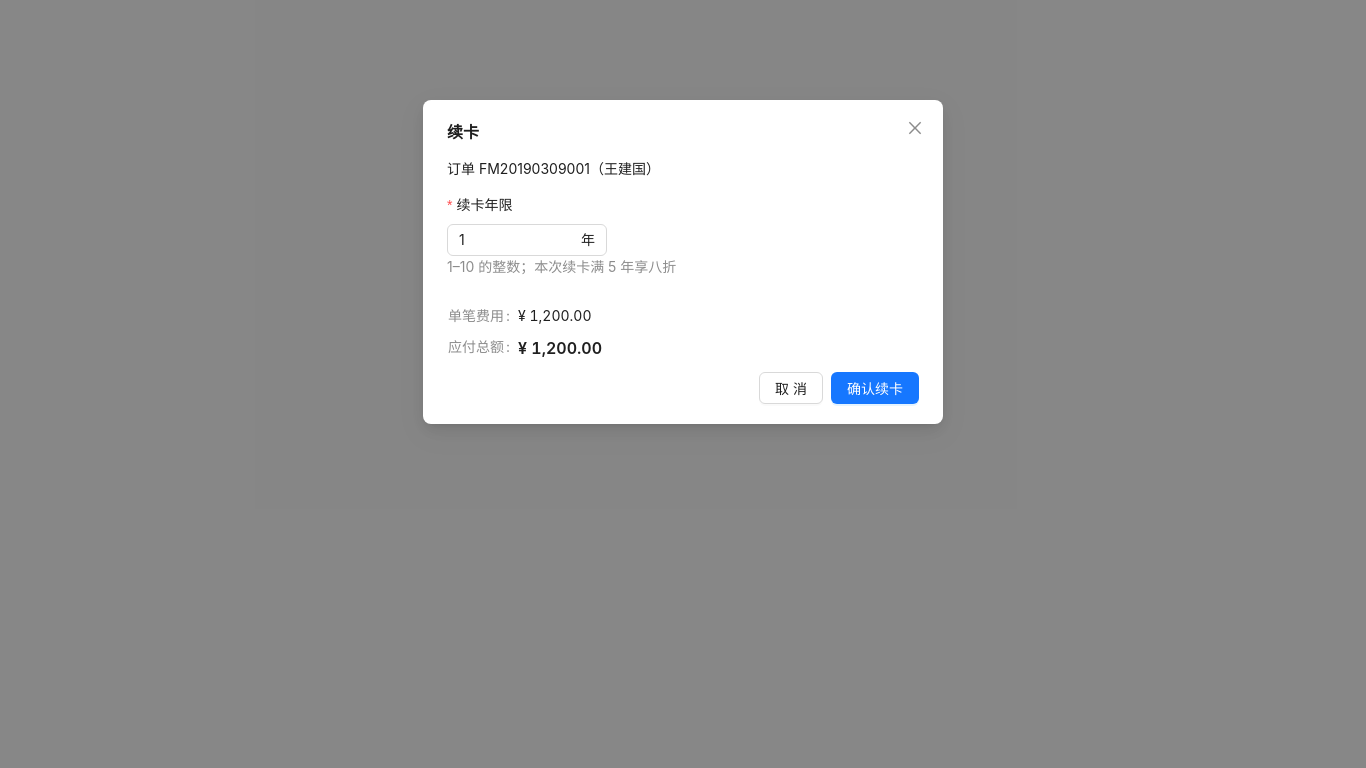
Scenario: 费用展示 › 年限输入 "2.5"：提示错误，不显示价格，不发送请求
Replace the text in the number field labelled "续卡年限" with "2.5" at (518, 240), box 459,225 -> 577,255
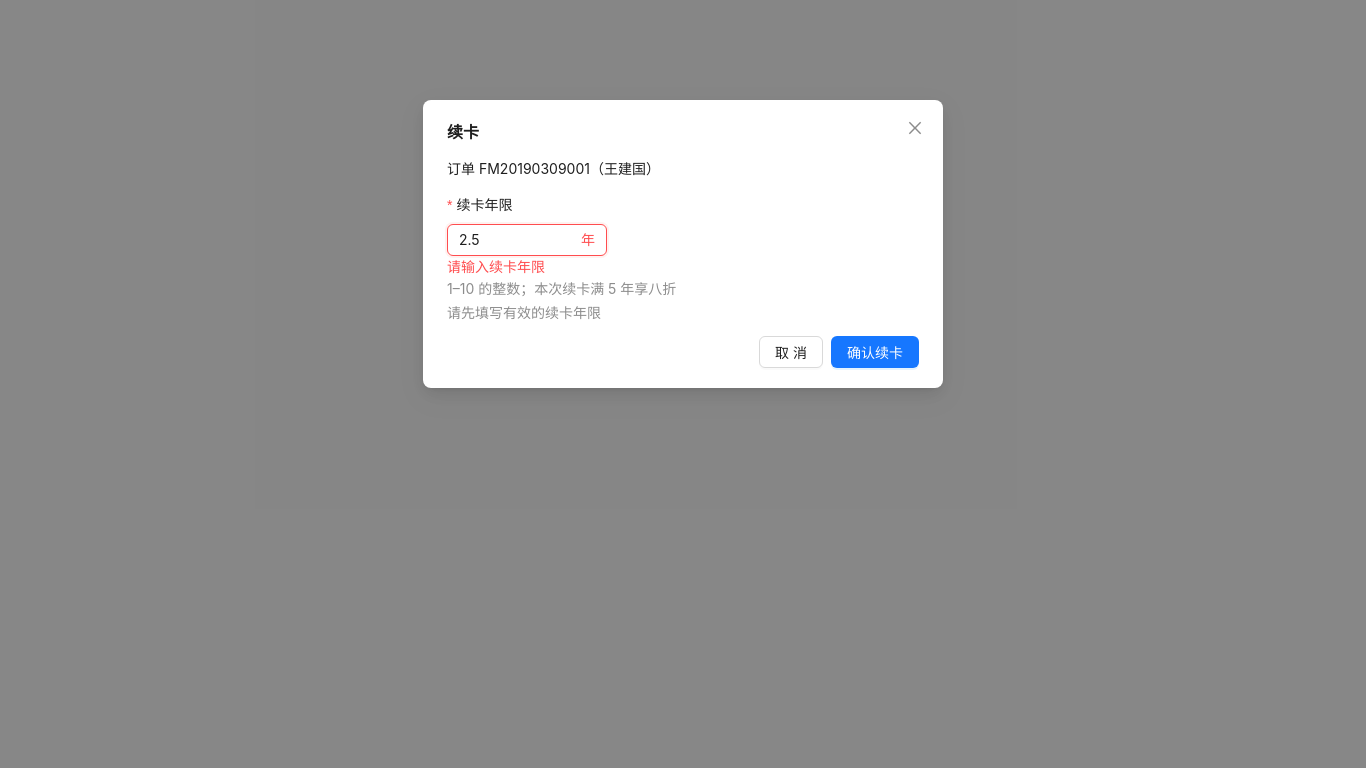
Check: the text "请先填写有效的续卡年限" is shown, box 447,304 -> 601,321
Click the button "确认续卡".
click(875, 352)  # box 831,336 -> 919,368
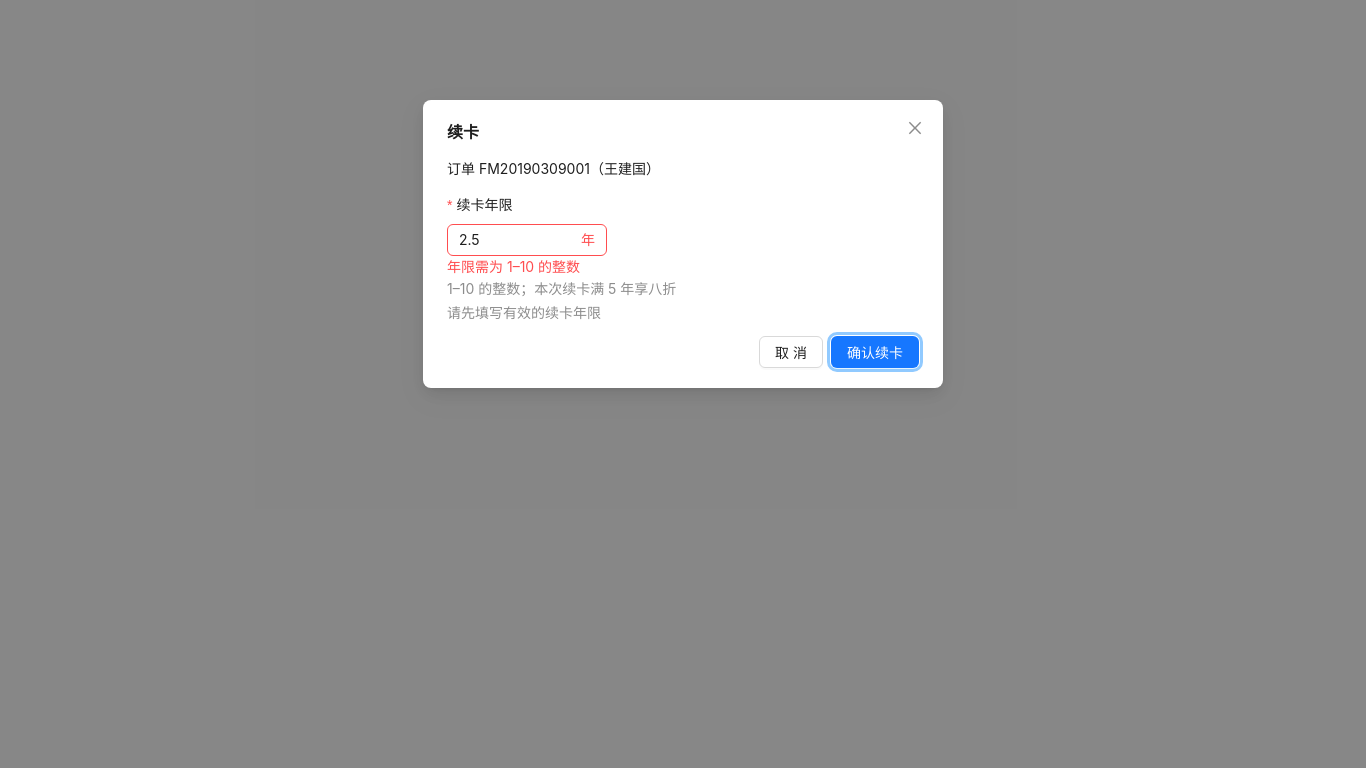
Check: the text "年限需为 1–10 的整数" is shown, box 447,258 -> 580,275
